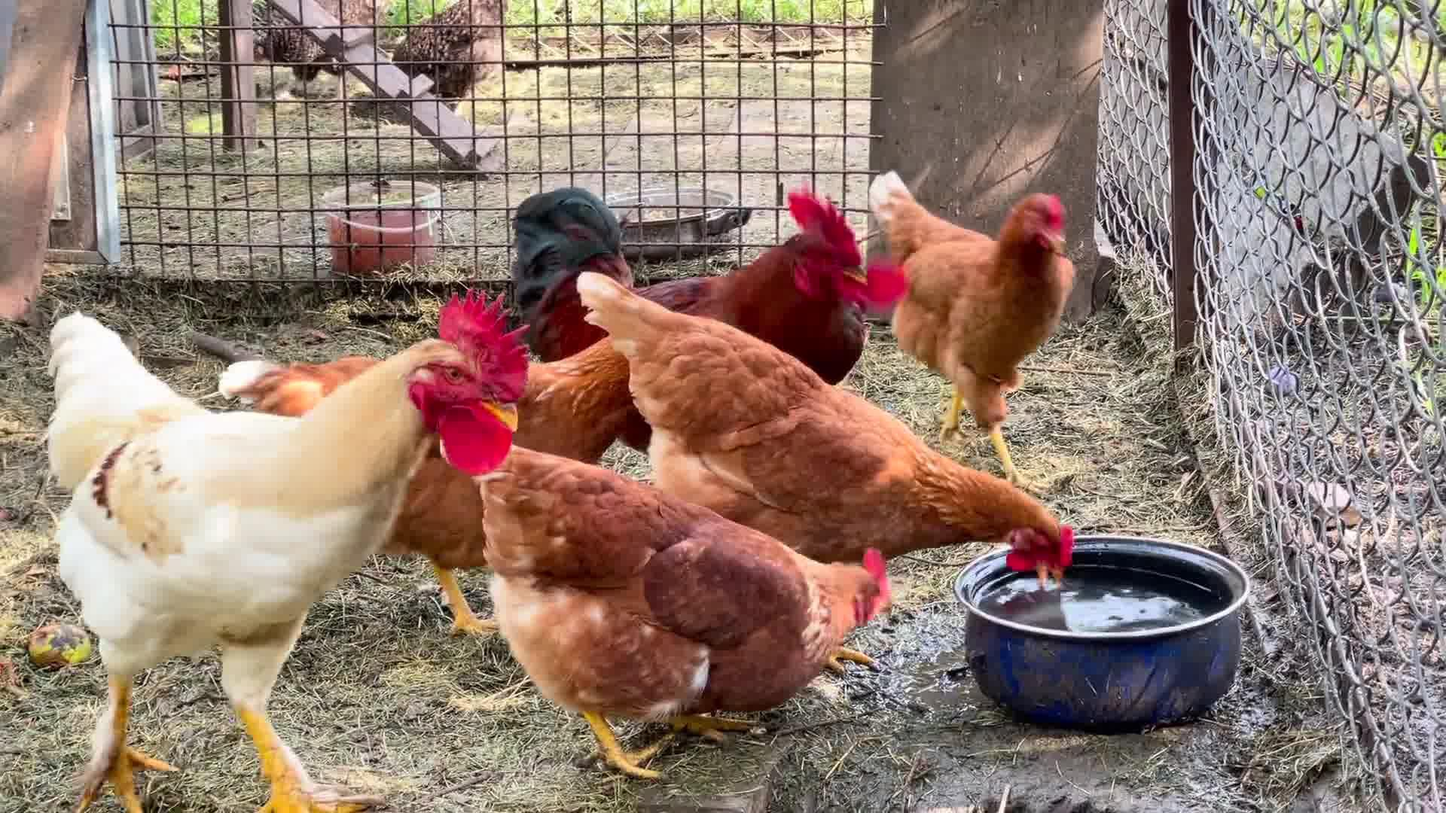Normal: (36, 300, 510, 813), (571, 277, 1100, 598), (484, 450, 894, 774), (247, 367, 712, 639), (513, 179, 873, 393), (868, 160, 1082, 467)
